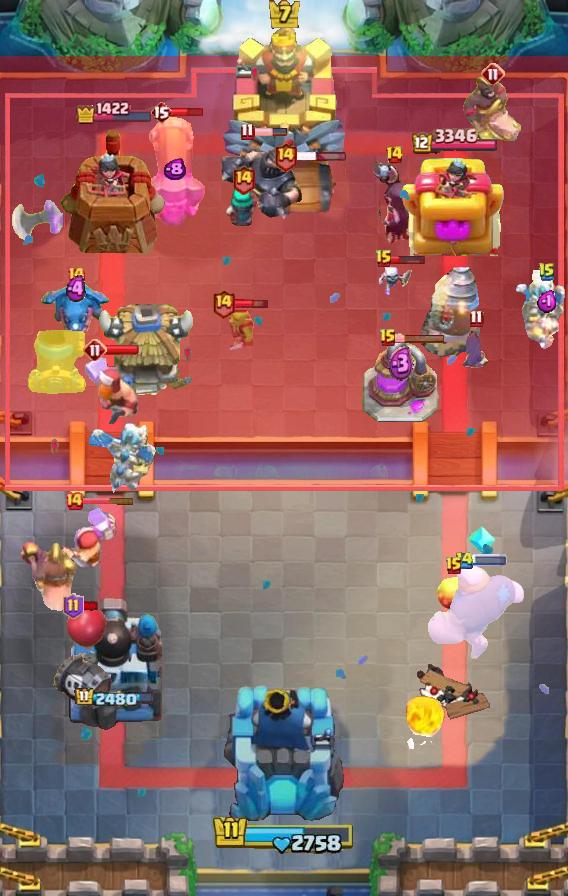balloon: (425, 563, 527, 663)
barbarian-barrel: (459, 331, 493, 373)
clock: (212, 814, 356, 856)
electro-spirit: (388, 346, 414, 382), (66, 275, 86, 303), (162, 158, 185, 182), (538, 291, 559, 314)
emote: (295, 150, 347, 161), (394, 332, 446, 343), (81, 496, 135, 505), (234, 298, 270, 311), (170, 106, 206, 118), (390, 253, 426, 265), (104, 344, 140, 356), (471, 554, 507, 566), (252, 127, 288, 137), (81, 600, 100, 612)
freeze: (462, 75, 524, 155), (20, 542, 78, 622)
furnace: (140, 114, 208, 226)
graveyard: (40, 277, 112, 339)
heal-spirit: (378, 264, 414, 298)
hog: (437, 573, 471, 611)
king-tower: (220, 21, 348, 181), (221, 682, 347, 826)
magic-archer: (421, 266, 481, 358)
mighty-miner: (82, 352, 140, 428), (54, 506, 118, 572)
mini-pekka: (85, 418, 157, 498), (512, 270, 568, 354)
musketeer: (26, 330, 86, 394)
pad_2: (467, 525, 497, 555)
pekka: (362, 342, 440, 424)
prince: (96, 304, 198, 400)
queen-tower: (59, 128, 169, 256), (401, 156, 505, 256)
rascal-boy: (371, 159, 417, 247)
royal-giant: (11, 198, 63, 248)
royal-guardian: (217, 136, 305, 222)
royal-recruit-evolution: (51, 605, 117, 709)
selected: (409, 128, 497, 156), (74, 99, 154, 125), (73, 687, 154, 709)
text: (273, 140, 298, 171), (231, 165, 256, 196), (211, 289, 236, 320), (481, 62, 505, 86), (83, 338, 107, 362), (64, 593, 85, 619), (150, 100, 172, 124), (384, 145, 404, 165), (66, 265, 86, 285), (64, 491, 84, 511), (375, 249, 393, 269), (538, 262, 556, 282), (379, 328, 397, 348), (445, 556, 463, 576), (454, 551, 473, 569), (241, 122, 256, 141), (469, 309, 483, 328)
the-log: (262, 161, 342, 221)
tower-bar: (66, 595, 162, 731)
valkyrie: (401, 689, 449, 749)
witch: (225, 186, 261, 228)
zap: (220, 306, 258, 352)
